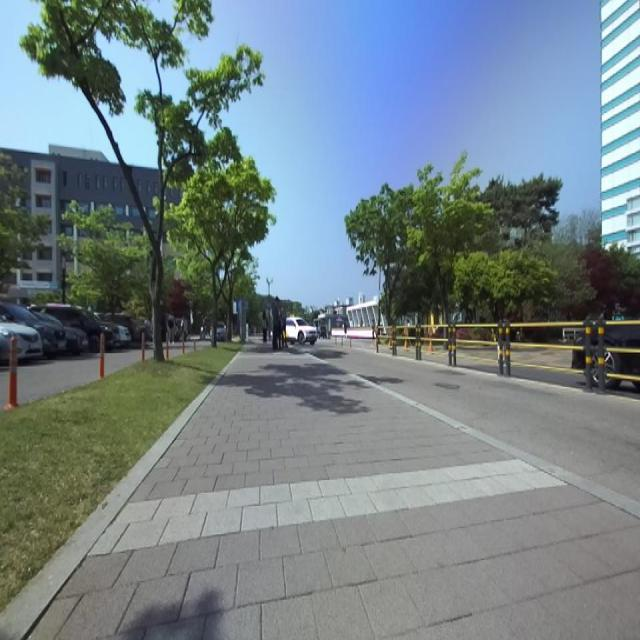sidewalk: (0, 348, 640, 639)
